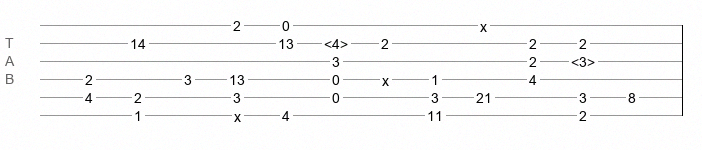0: (282, 18, 290, 28), (332, 72, 340, 82), (332, 90, 340, 100)
1: (134, 108, 142, 118), (431, 72, 439, 82)
11: (427, 108, 443, 118)
13: (229, 72, 245, 82), (278, 36, 294, 46)
14: (130, 36, 146, 46)
2: (85, 72, 93, 82), (134, 90, 142, 100), (233, 18, 241, 28), (381, 36, 389, 46), (529, 54, 537, 64), (529, 36, 537, 46), (579, 108, 587, 118), (579, 36, 587, 46)
21: (476, 90, 492, 100)
3: (184, 72, 192, 82), (233, 90, 241, 100), (332, 54, 340, 64), (431, 90, 439, 100), (579, 90, 587, 100)
4: (85, 90, 93, 100), (282, 108, 290, 118), (529, 72, 537, 82)
8: (628, 90, 636, 100)
harmonic: (324, 36, 348, 46), (571, 54, 595, 64)
x: (234, 109, 241, 117), (382, 73, 389, 81), (480, 19, 487, 27)
